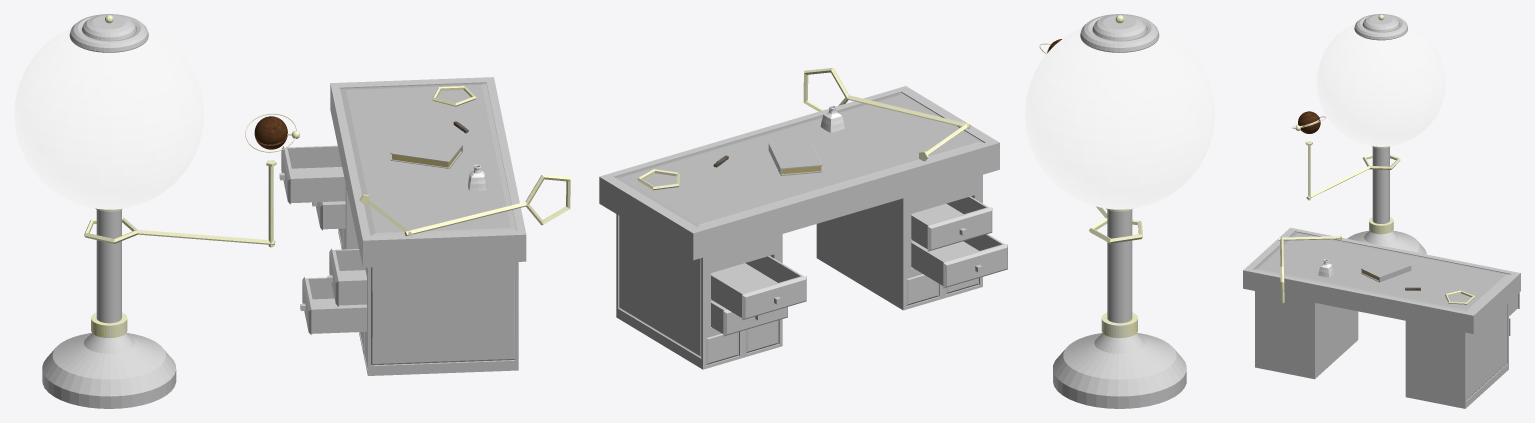
3 views of the same model, side by side, from view 1: azimuth 30°, elevation 25°; view 2: azimuth 150°, elevation 25°; view 3: azimuth 270°, elevation 25° (orthographic). The views are drawn at different scales.
Visible parts, largest first — view 1: Desk, Orrery_Sun, Drawer_TL, Orrerry_Arm, Drawer_BR, Drawer_TR, Book_Clothbound, Orrerry_Arm_Desk, Drawer_BL; view 2: Desk, Orrery_Sun, Drawer_TL, Drawer_BR, Drawer_TR, Book_Clothbound, Orrerry_Arm_Desk, Drawer_BL, Orrerry_Arm; view 3: Desk, Orrery_Sun, Orrerry_Arm, Book_Clothbound, Orrerry_Arm_Desk.
Boxes of the visible parts, bbox=[...] form: Desk: bbox=[330, 77, 526, 375]; Orrery_Sun: bbox=[14, 14, 204, 408]; Drawer_TL: bbox=[279, 145, 345, 204]; Orrerry_Arm: bbox=[84, 113, 299, 247]; Drawer_BR: bbox=[300, 277, 366, 334]; Drawer_TR: bbox=[327, 248, 366, 306]; Book_Clothbound: bbox=[390, 136, 462, 168]; Orrerry_Arm_Desk: bbox=[359, 175, 570, 236]; Drawer_BL: bbox=[312, 201, 345, 230]; Desk: bbox=[599, 86, 999, 369]; Orrery_Sun: bbox=[1025, 14, 1214, 408]; Drawer_TL: bbox=[711, 256, 806, 320]; Drawer_BR: bbox=[911, 234, 1007, 288]; Drawer_TR: bbox=[911, 196, 992, 251]; Book_Clothbound: bbox=[768, 139, 822, 175]; Orrerry_Arm_Desk: bbox=[803, 68, 970, 161]; Drawer_BL: bbox=[711, 300, 787, 336]; Orrerry_Arm: bbox=[1039, 39, 1142, 243]; Desk: bbox=[1243, 227, 1520, 408]; Orrery_Sun: bbox=[1316, 14, 1445, 254]; Orrerry_Arm: bbox=[1292, 111, 1400, 200]; Book_Clothbound: bbox=[1361, 256, 1411, 282]; Orrerry_Arm_Desk: bbox=[1278, 234, 1341, 303].
Size of what is drawn, in the model's own units: 6.56 by 4.28 by 4.34.
